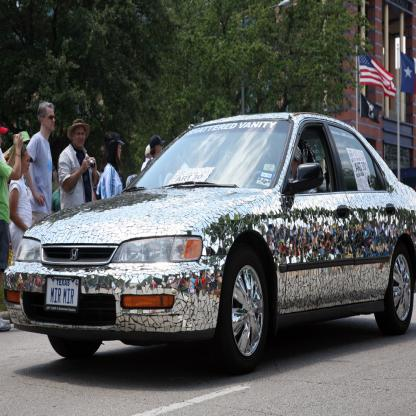Car: (4, 113, 416, 375)
